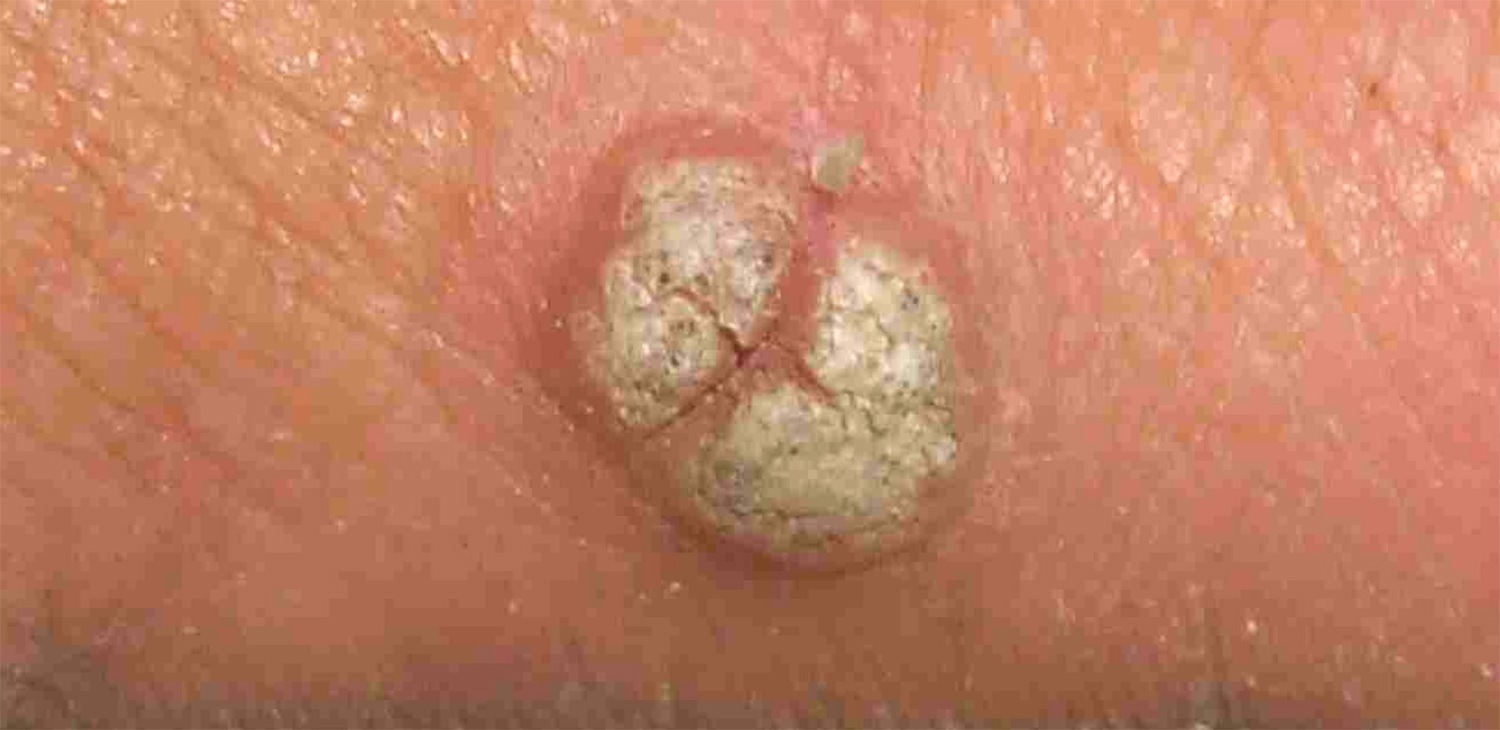Wart: (515, 92, 991, 587)
